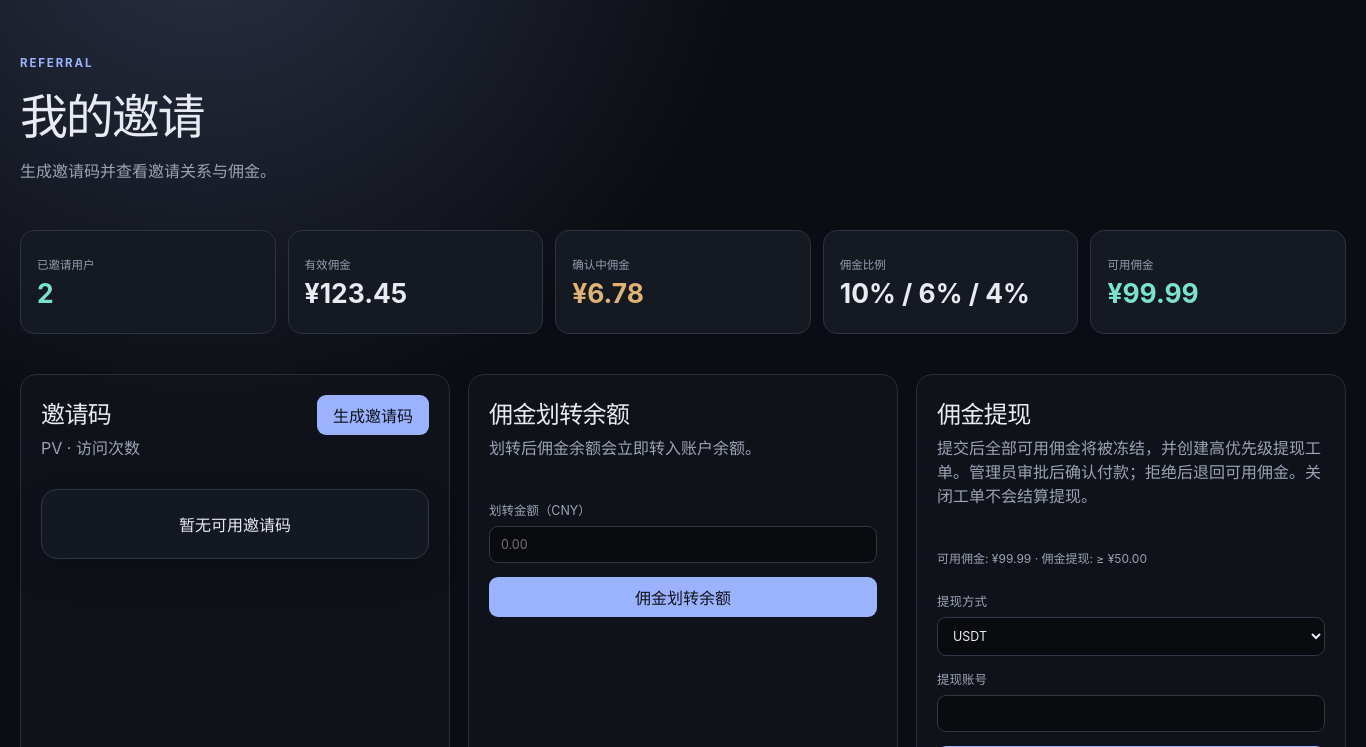
Test: InvitationPage › loads all five legacy statistics, commission history, transfers money, and generates a code
The image size is (1366, 747).
Expected: the heading "我的邀请" is shown, [20,87,203,146]
Expected: the text "已邀请用户" is shown, [37,258,95,272]
Type "12.34" into the field labelled "划转金额（CNY）" at (683, 544), box [489,526,877,563]
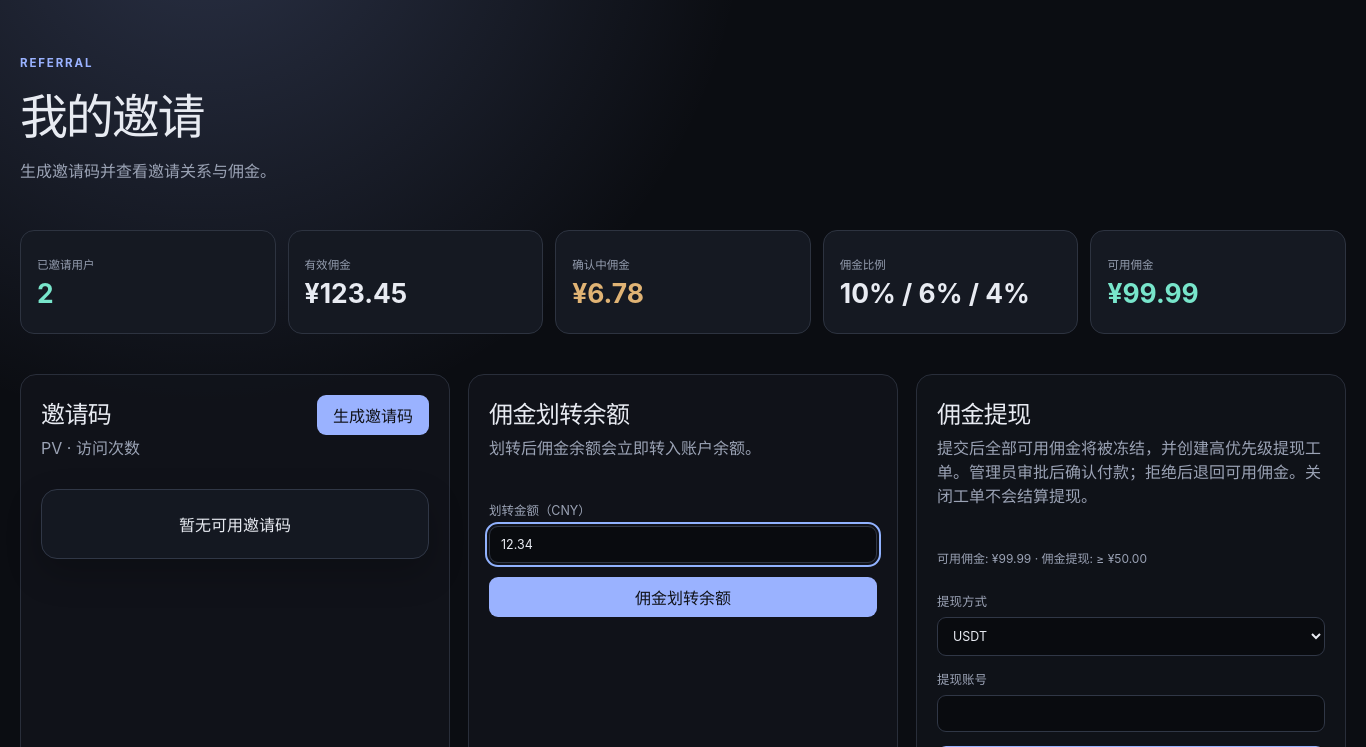
Click the button "佣金划转余额" at (683, 597), box [489,577,877,617]
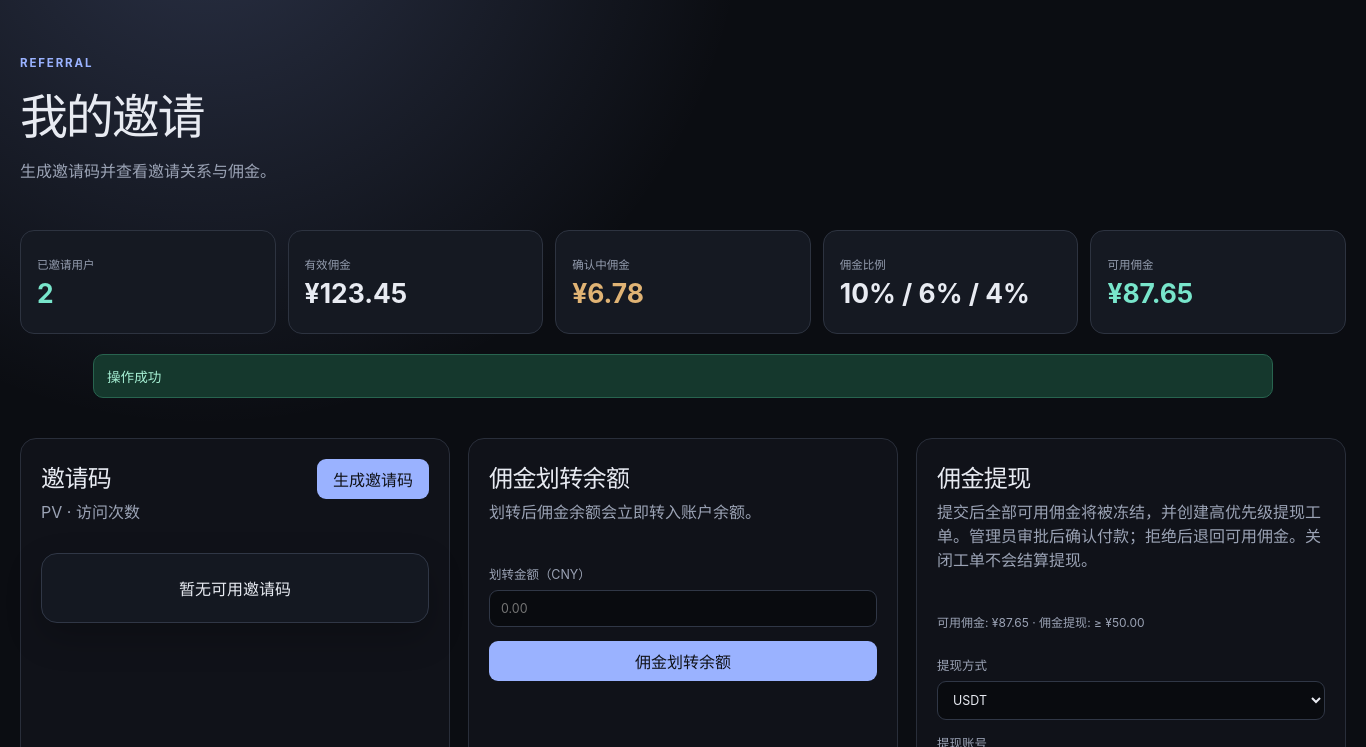
Expected: the message reads "操作成功", [107,369,161,385]
Click the button "生成邀请码" at (373, 479), box [317,459,429,499]
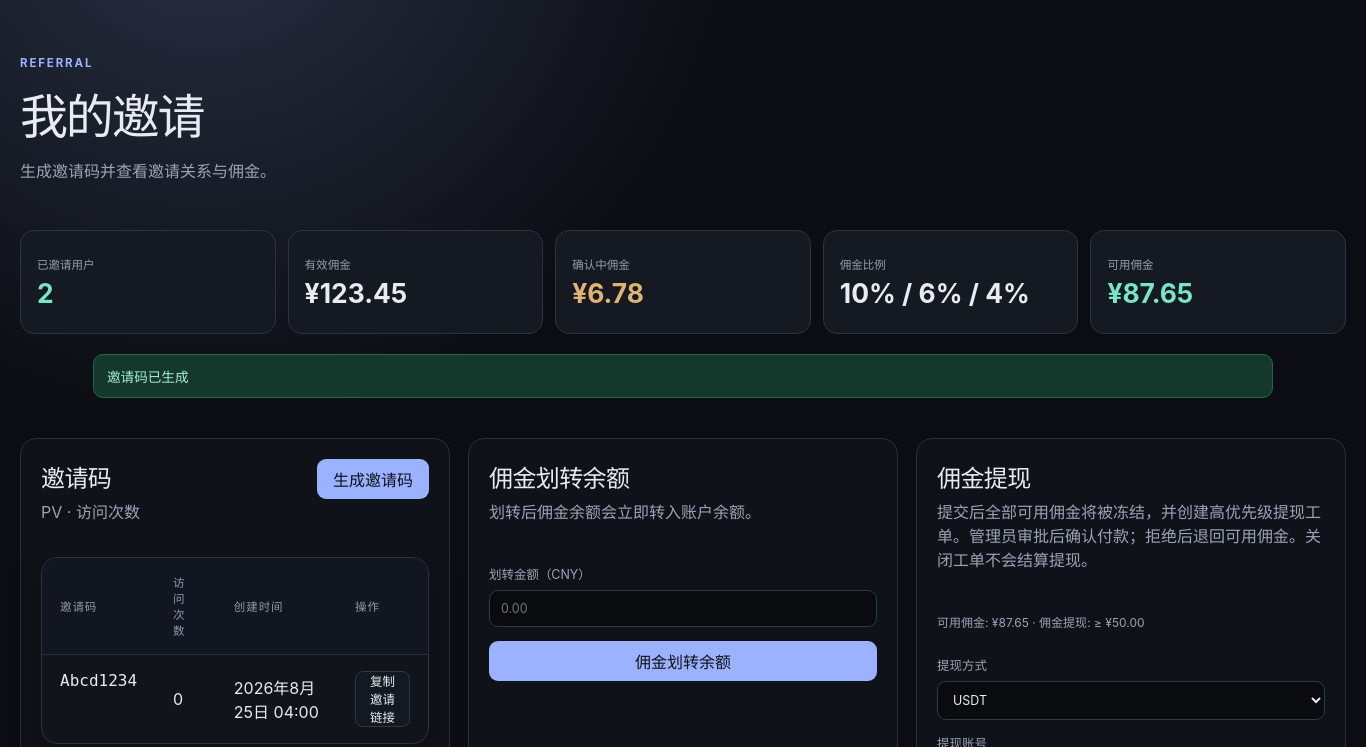
Expected: the text "Abcd1234" is shown, [60,671,137,690]
Expected: the text "0" is shown, [155,654,216,743]
Expected: the message reads "邀请码已生成", [107,369,189,385]
Click the button "复制邀请链接" at (382, 699), box [355,671,410,727]
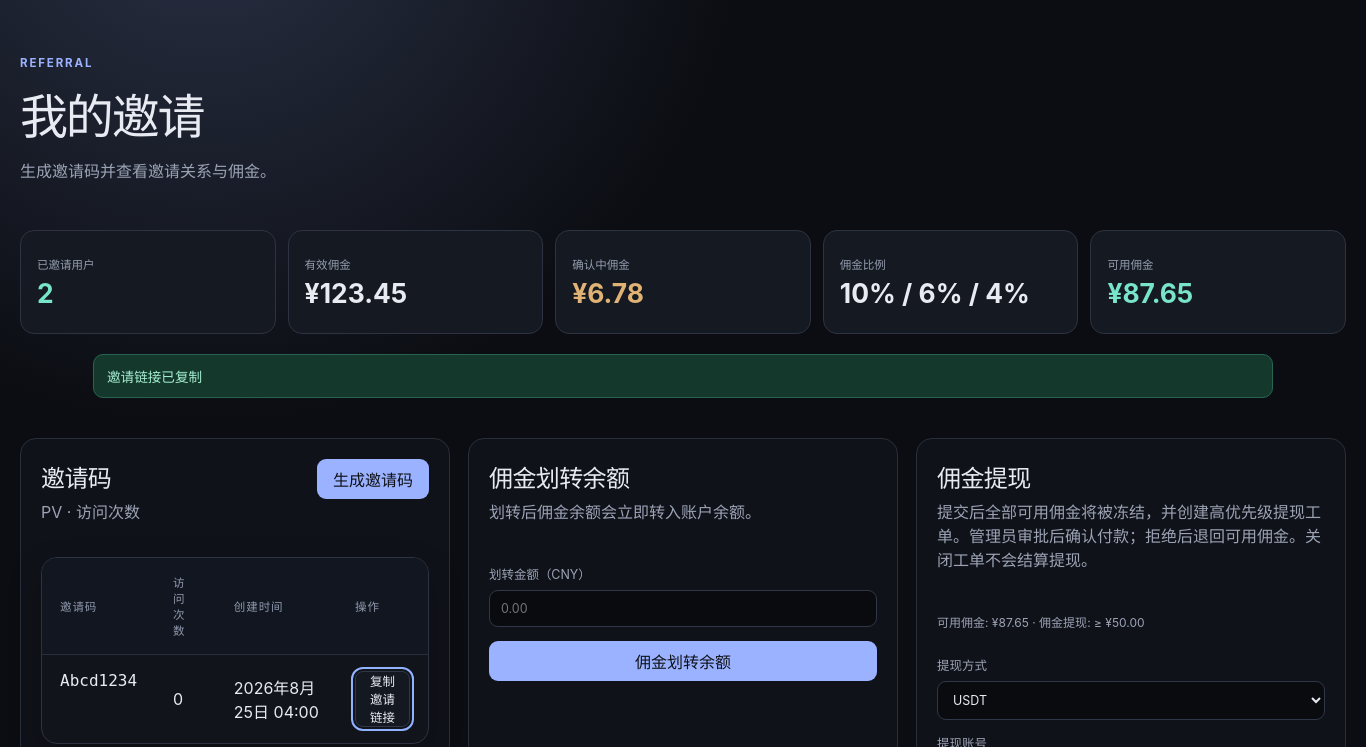
Expected: the message reads "邀请链接已复制", [107,369,202,385]
